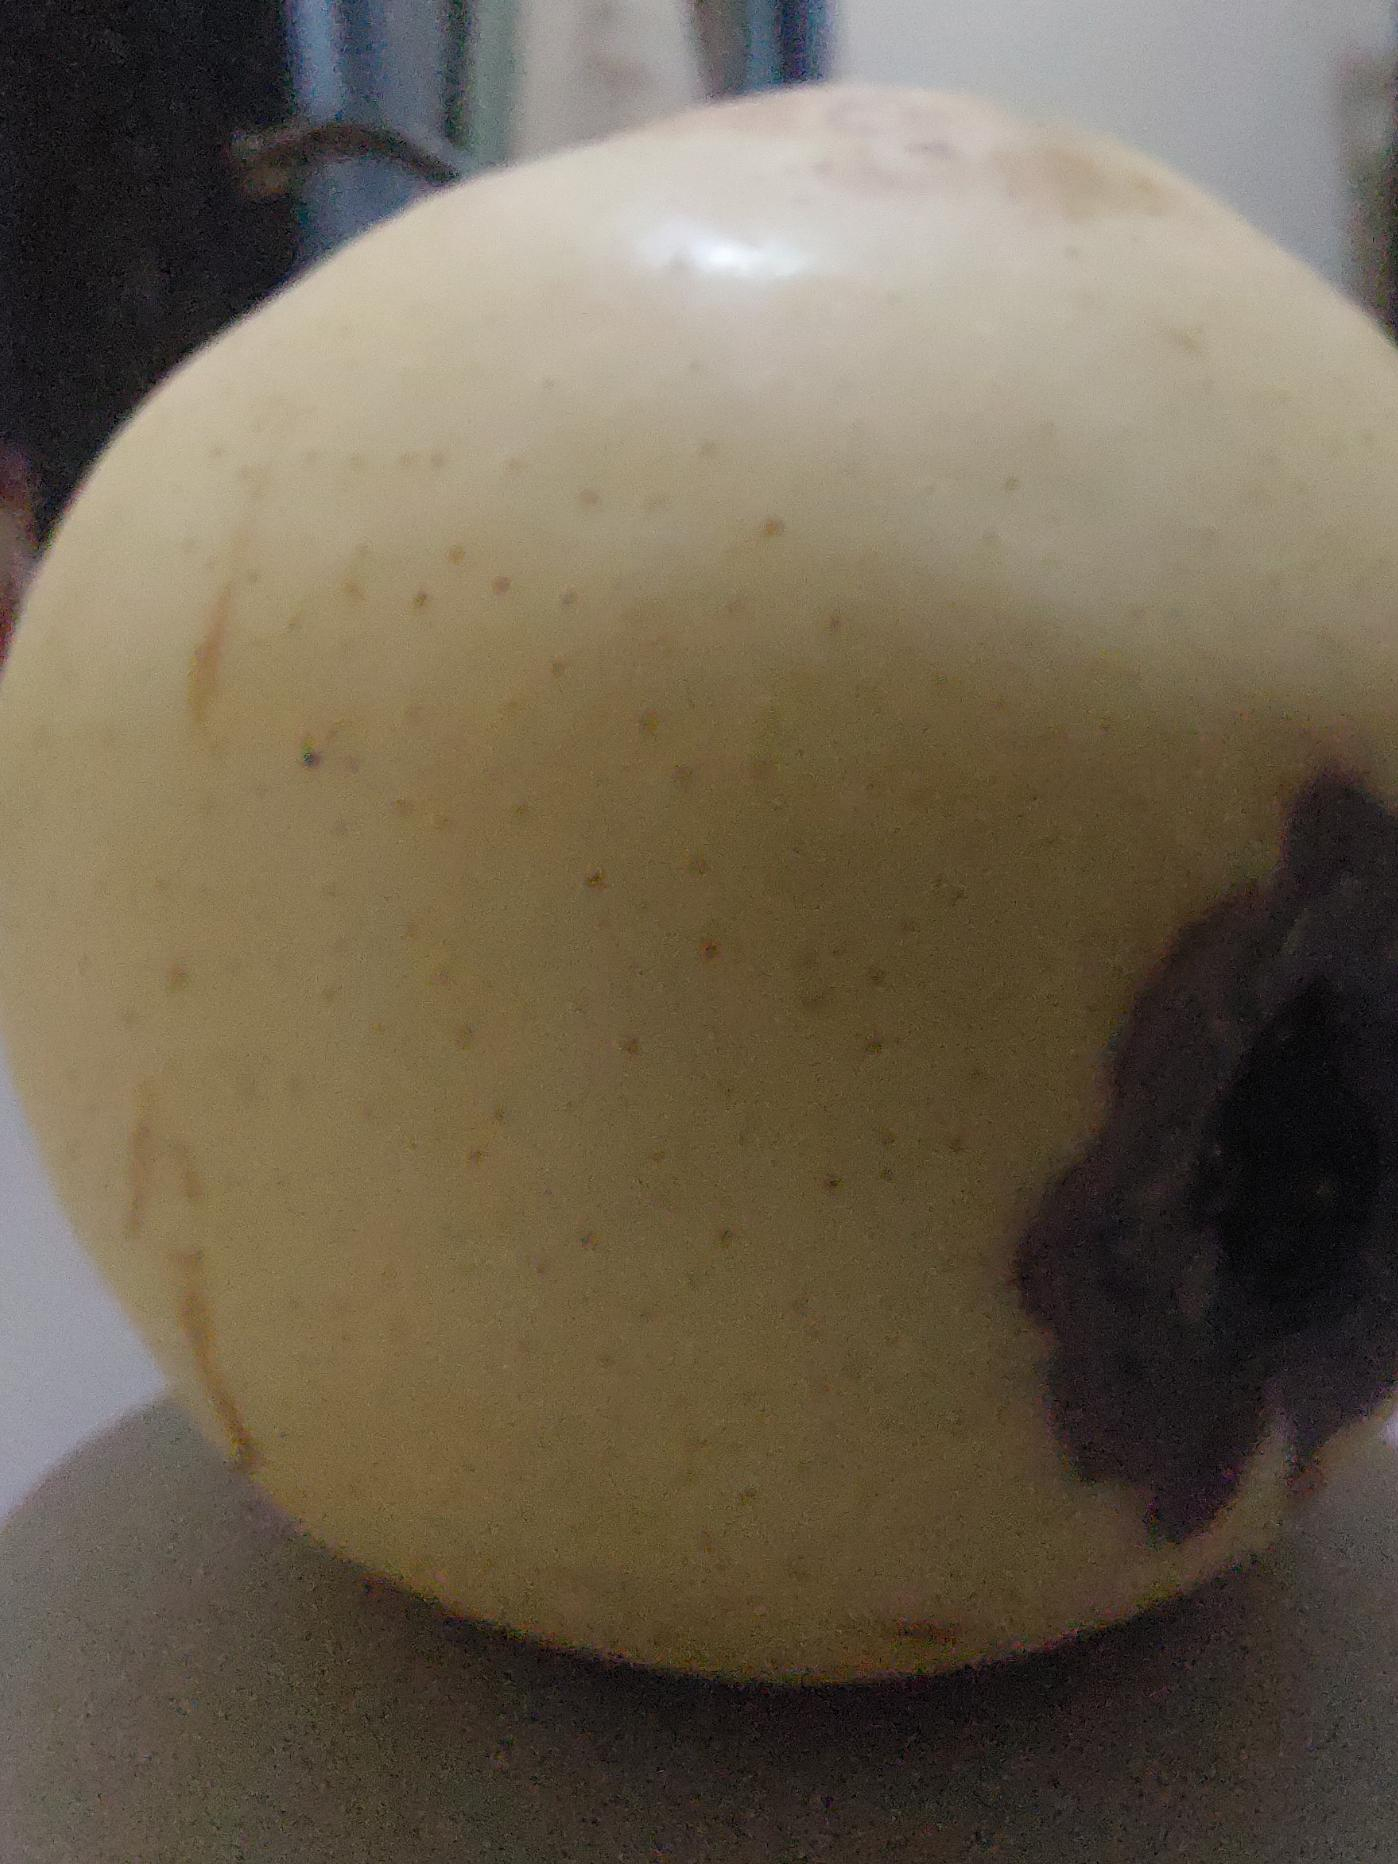Bad Pear: (0, 68, 1398, 1666)
